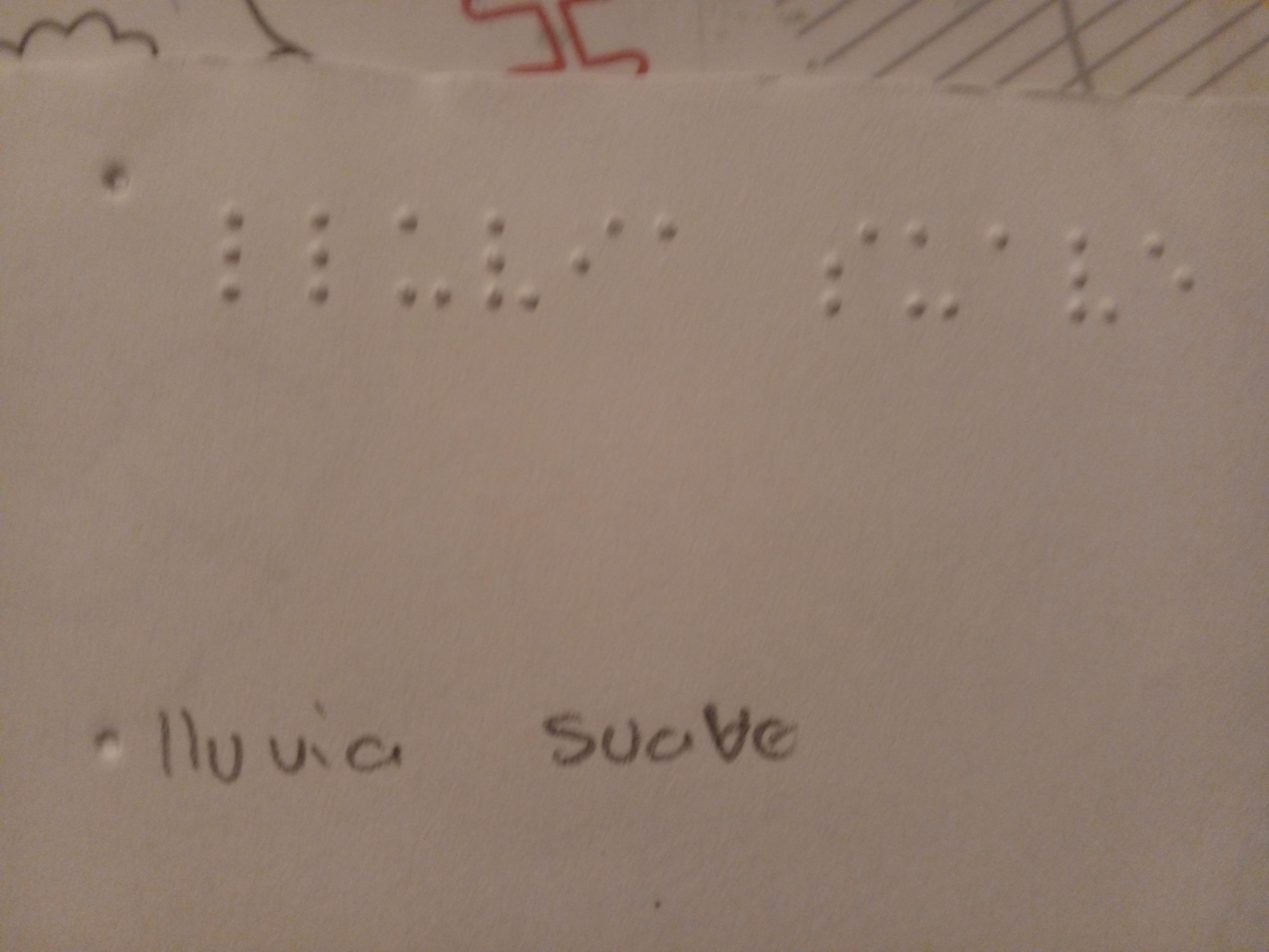a: (630, 197, 697, 265), (976, 212, 1021, 270)
e: (1137, 214, 1211, 322)
i: (542, 194, 623, 298)
l: (270, 201, 352, 327), (197, 174, 265, 321)
s: (801, 212, 886, 319)
u: (897, 214, 965, 338), (390, 203, 462, 315)
v: (476, 203, 545, 328), (1056, 217, 1123, 344)
